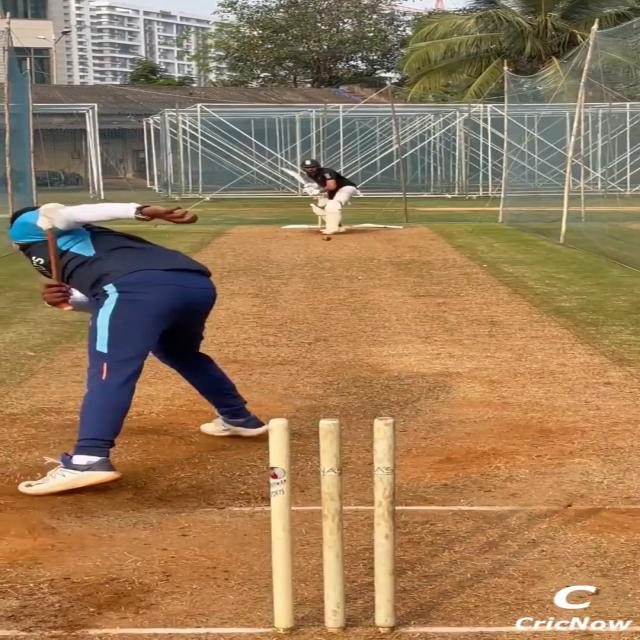ball: (322, 236, 332, 241)
stump: (265, 418, 397, 636)
